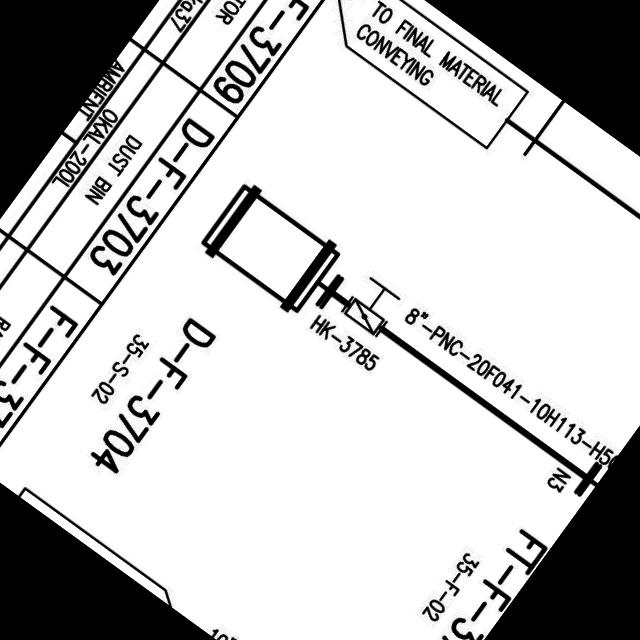BV: (333, 266, 410, 344)
D2: (188, 172, 350, 328)
